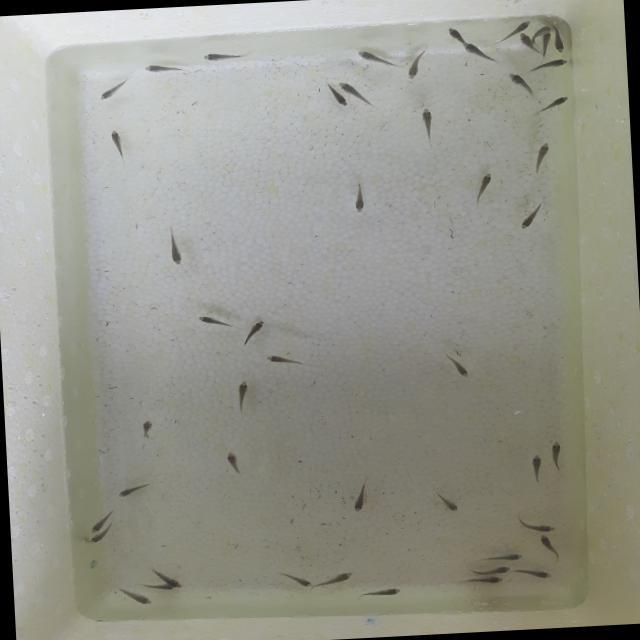fingerling: (354, 46, 400, 74), (161, 226, 189, 270), (113, 476, 158, 501), (190, 310, 236, 334), (441, 346, 472, 381), (263, 351, 311, 372), (230, 376, 254, 418), (459, 38, 494, 66), (533, 93, 573, 117), (359, 582, 406, 602), (417, 104, 441, 142), (402, 48, 428, 82), (195, 49, 253, 64), (434, 484, 462, 515), (528, 139, 552, 174), (531, 56, 570, 76), (518, 514, 554, 535), (142, 60, 188, 76), (224, 448, 247, 480), (516, 206, 544, 232), (109, 129, 130, 163), (348, 482, 370, 514), (96, 78, 125, 102), (444, 24, 474, 47), (244, 318, 269, 344), (504, 68, 531, 92), (322, 570, 358, 588), (122, 590, 156, 609), (550, 24, 570, 56), (469, 562, 514, 576), (324, 84, 348, 110), (348, 187, 368, 218), (86, 511, 114, 533), (474, 172, 494, 201), (478, 551, 526, 563), (550, 440, 566, 475), (462, 574, 507, 586), (136, 418, 158, 442), (283, 574, 316, 590), (516, 31, 538, 54), (520, 569, 556, 583), (530, 452, 544, 487), (536, 532, 556, 556), (162, 574, 188, 590), (512, 17, 534, 32), (338, 78, 358, 94), (535, 21, 554, 35), (86, 534, 108, 546)
